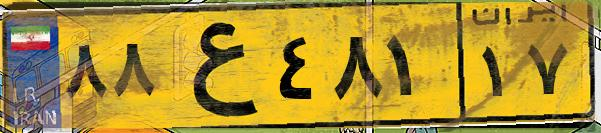1: (385, 28, 445, 110), (475, 38, 525, 113)
4: (270, 28, 330, 110)
7: (525, 38, 570, 115)
8: (330, 28, 385, 110), (57, 26, 110, 100), (110, 28, 158, 98)
ع: (158, 12, 270, 120)
